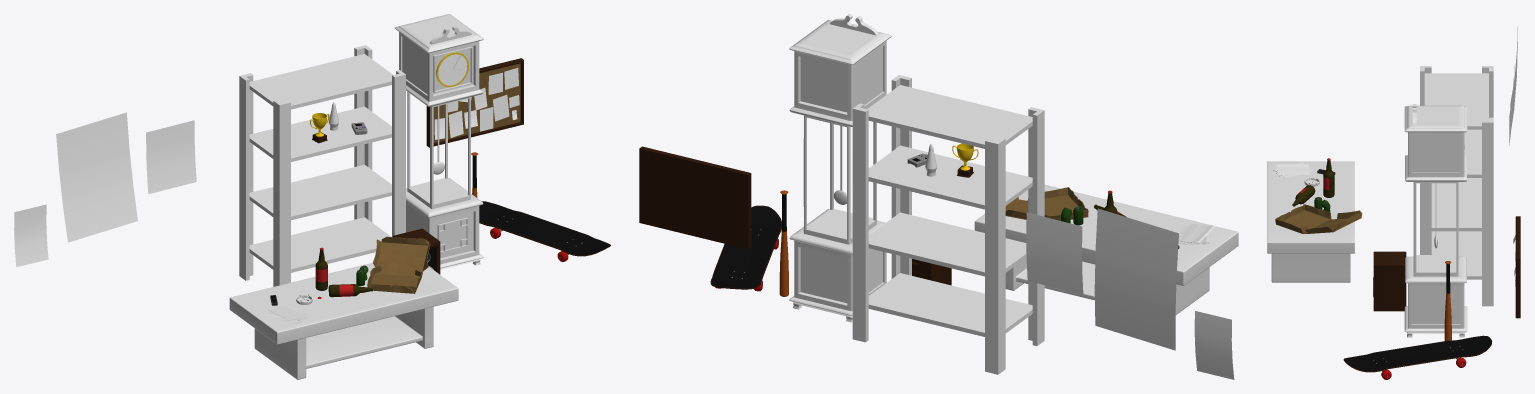
Rendered from Props_Añadidos_Sotano_2.FBX.
The picture shows the model from 3 angles, left to right: view 1: azimuth 30°, elevation 25°; view 2: azimuth 150°, elevation 25°; view 3: azimuth 270°, elevation 25°; orthographic projection. The views are drawn at different scales.
Visible parts, largest first — view 1: Estanteria, Mesita, Reloj, Poster, Skate, Poster_2, Caja_Pizza, Corcho, Papel019, Circulo, Altavoz; view 2: Estanteria, Reloj, Poster, Corcho, Mesita, Poster_2, Skate, Papel019, Caja_Pizza, Bate, Altavoz, trophy; view 3: Estanteria, Reloj, Mesita, Skate, Altavoz, Caja_Pizza, Corcho, Bate, Litrona, MangaHentai003, Litrona2, Poster.
Part boxes in pixels (bbox=[...]): Estanteria: bbox=[239, 45, 405, 286]; Mesita: bbox=[229, 263, 458, 379]; Reloj: bbox=[394, 14, 483, 269]; Poster: bbox=[56, 112, 137, 242]; Skate: bbox=[479, 201, 610, 261]; Poster_2: bbox=[146, 120, 196, 194]; Caja_Pizza: bbox=[367, 236, 430, 293]; Corcho: bbox=[426, 58, 523, 147]; Papel019: bbox=[14, 204, 48, 267]; Circulo: bbox=[436, 52, 468, 87]; Altavoz: bbox=[393, 228, 440, 274]; Estanteria: bbox=[852, 75, 1044, 374]; Reloj: bbox=[789, 14, 891, 322]; Poster: bbox=[1094, 208, 1178, 350]; Corcho: bbox=[639, 146, 751, 249]; Mesita: bbox=[974, 184, 1238, 314]; Poster_2: bbox=[1026, 212, 1083, 294]; Skate: bbox=[710, 205, 781, 291]; Papel019: bbox=[1194, 311, 1234, 379]; Caja_Pizza: bbox=[1005, 187, 1088, 220]; Bate: bbox=[779, 190, 788, 296]; Altavoz: bbox=[912, 259, 951, 285]; trophy: bbox=[952, 143, 978, 177]; Estanteria: bbox=[1420, 66, 1493, 306]; Reloj: bbox=[1404, 104, 1467, 337]; Mesita: bbox=[1267, 161, 1354, 282]; Skate: bbox=[1343, 335, 1492, 379]; Altavoz: bbox=[1373, 251, 1406, 311]; Caja_Pizza: bbox=[1275, 204, 1362, 233]; Corcho: bbox=[1515, 216, 1520, 318]; Bate: bbox=[1444, 261, 1451, 340]; Litrona: bbox=[1323, 158, 1334, 197]; MangaHentai003: bbox=[1276, 163, 1309, 174]; Litrona2: bbox=[1292, 185, 1315, 206]; Poster: bbox=[1509, 26, 1517, 125].
Bounding box in the file's own units: 236 × 106 × 111.
